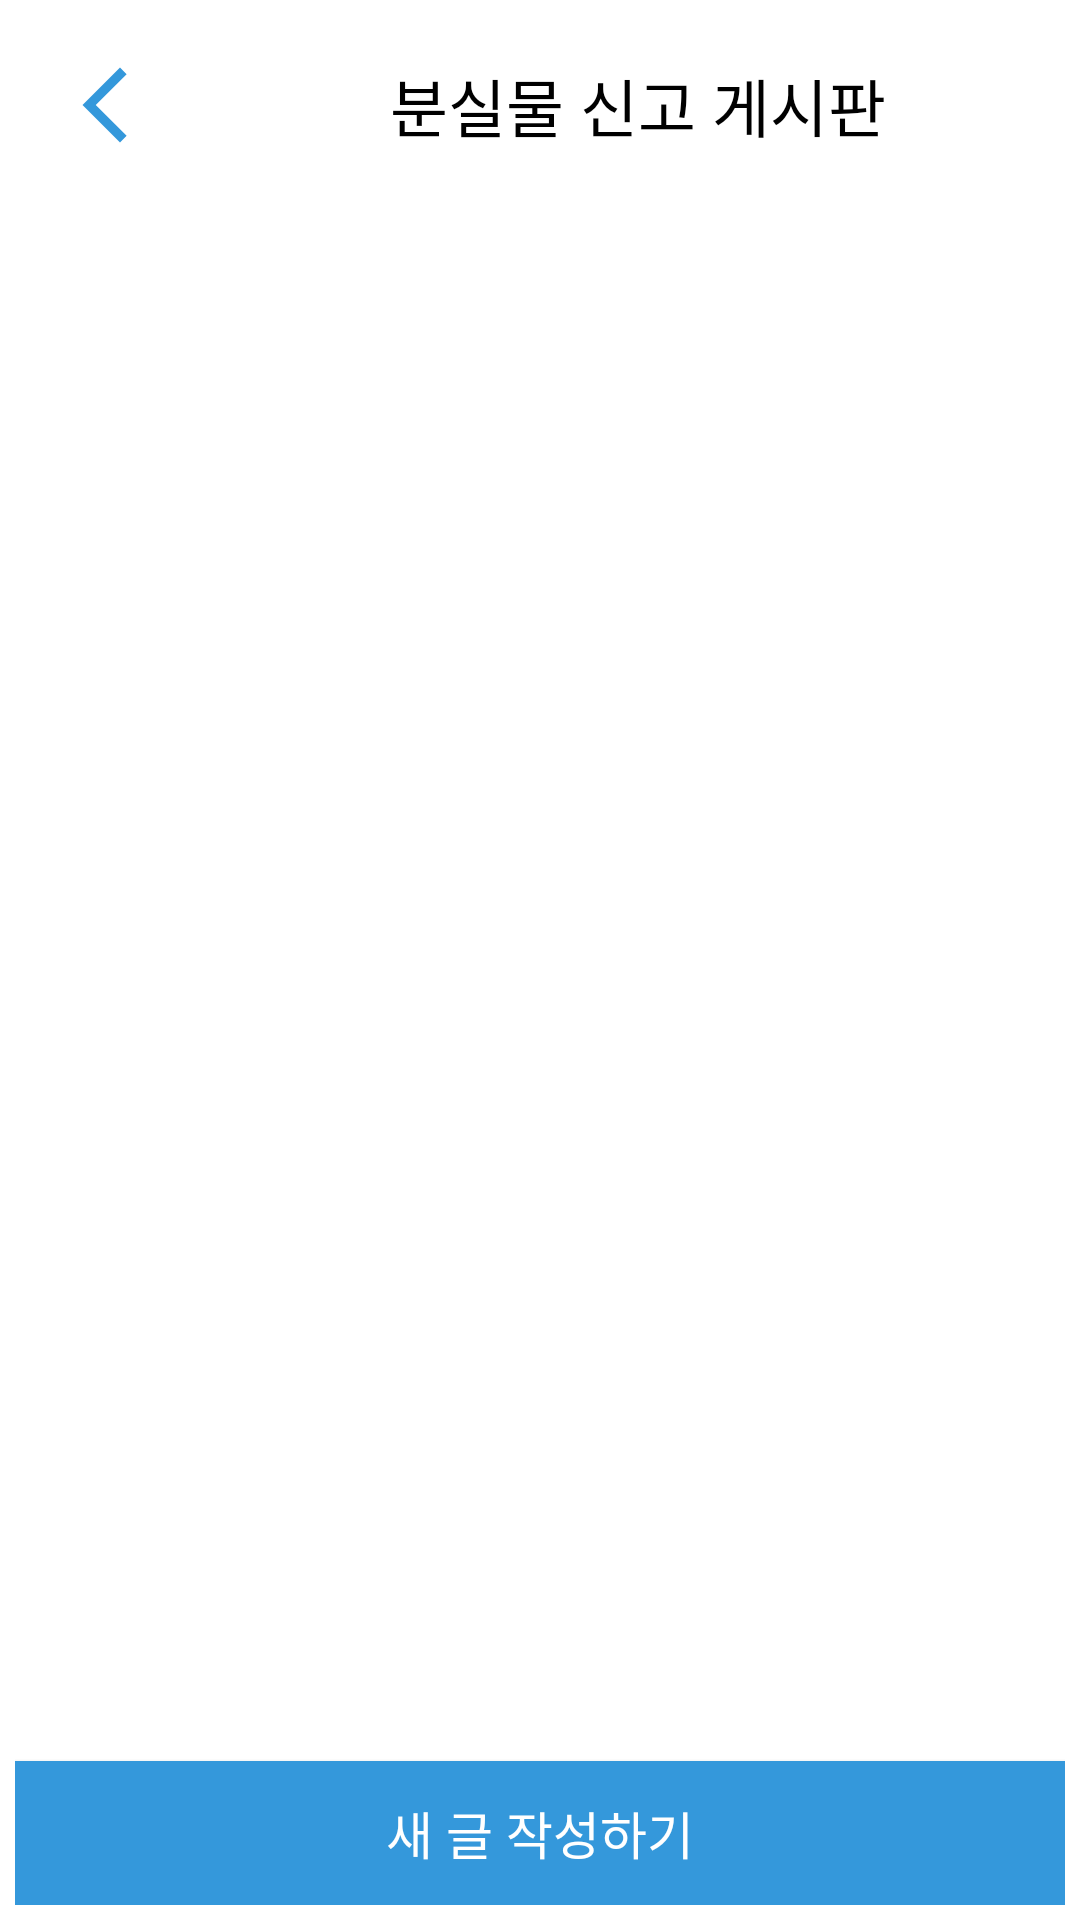

Icons on this 1080 × 1920 Android screen, each with its box as bbox=[x1, y1, x2, y2]:
back: bbox=[83, 67, 127, 143]
